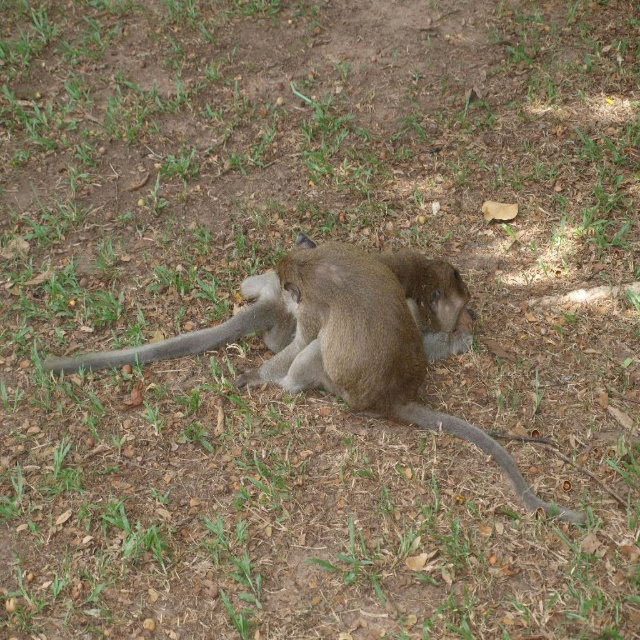Monkey: (180, 239, 565, 510)
